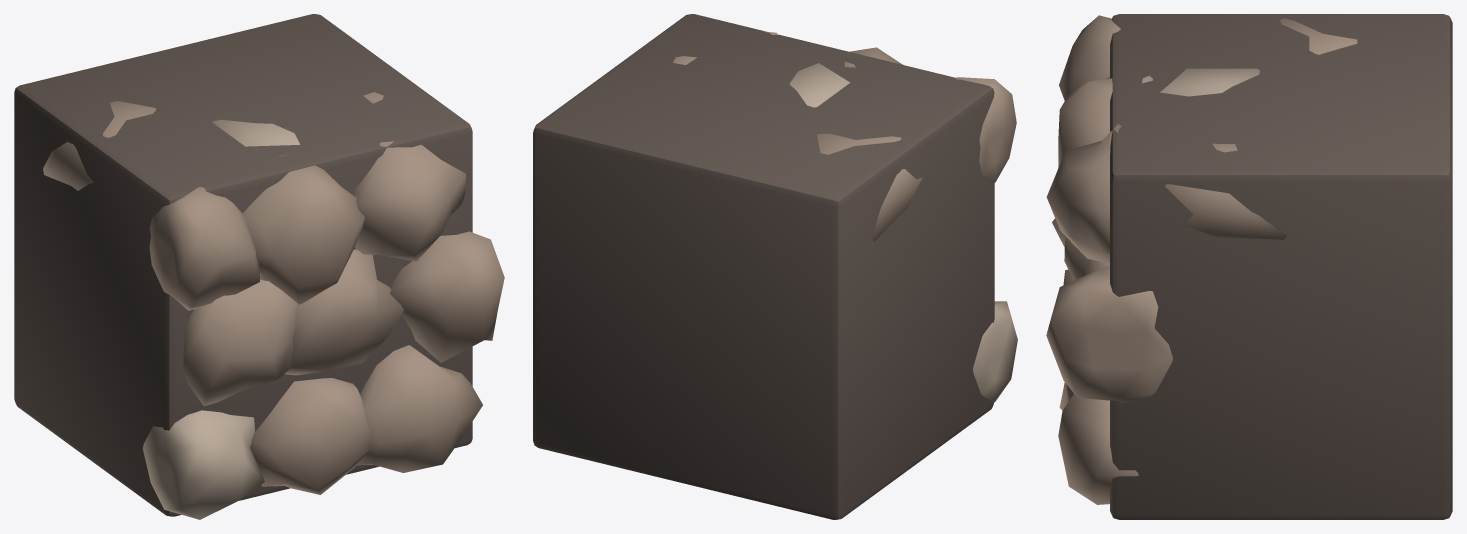
Rendered from tile_rock_b.glb.
The picture shows the model from 3 angles, left to right: view 1: azimuth 30°, elevation 25°; view 2: azimuth 150°, elevation 25°; view 3: azimuth 270°, elevation 25°; orthographic projection. The views are drawn at different scales.
Visible parts, largest first — view 1: tile_rock_b; view 2: tile_rock_b; view 3: tile_rock_b.
Boxes of the visible parts, left/top/right/bottom form: tile_rock_b: left=14, top=14, right=504, bottom=519; tile_rock_b: left=533, top=14, right=1017, bottom=519; tile_rock_b: left=1046, top=14, right=1452, bottom=519.
Size of the model in its own units: 0.5 by 0.5 by 0.5219.
